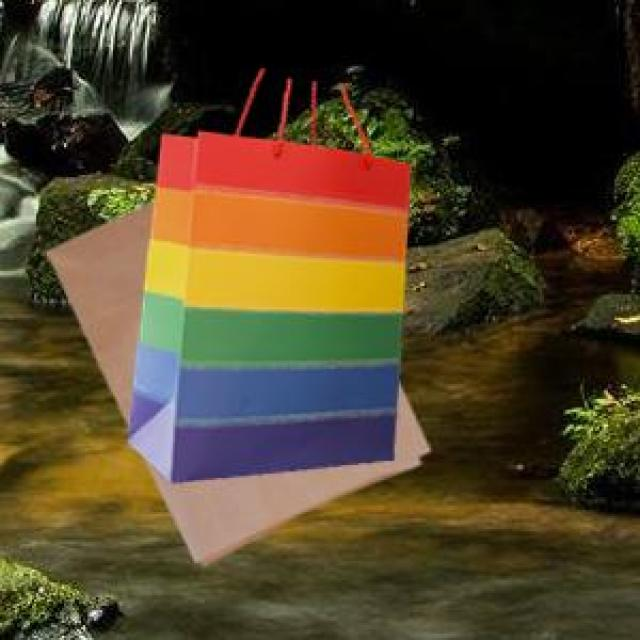PaperCardboard: (47, 129, 433, 575)
